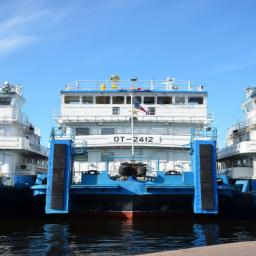tugboat: (29, 76, 238, 229)
